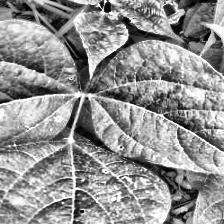Bean Rust: (89, 39, 224, 180), (0, 143, 169, 224), (0, 20, 83, 160)
